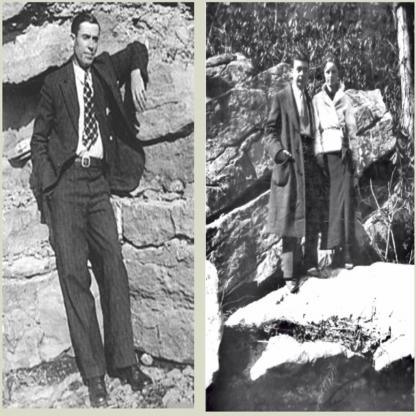face: (77, 24, 99, 65), (295, 61, 309, 88), (325, 64, 338, 87)
